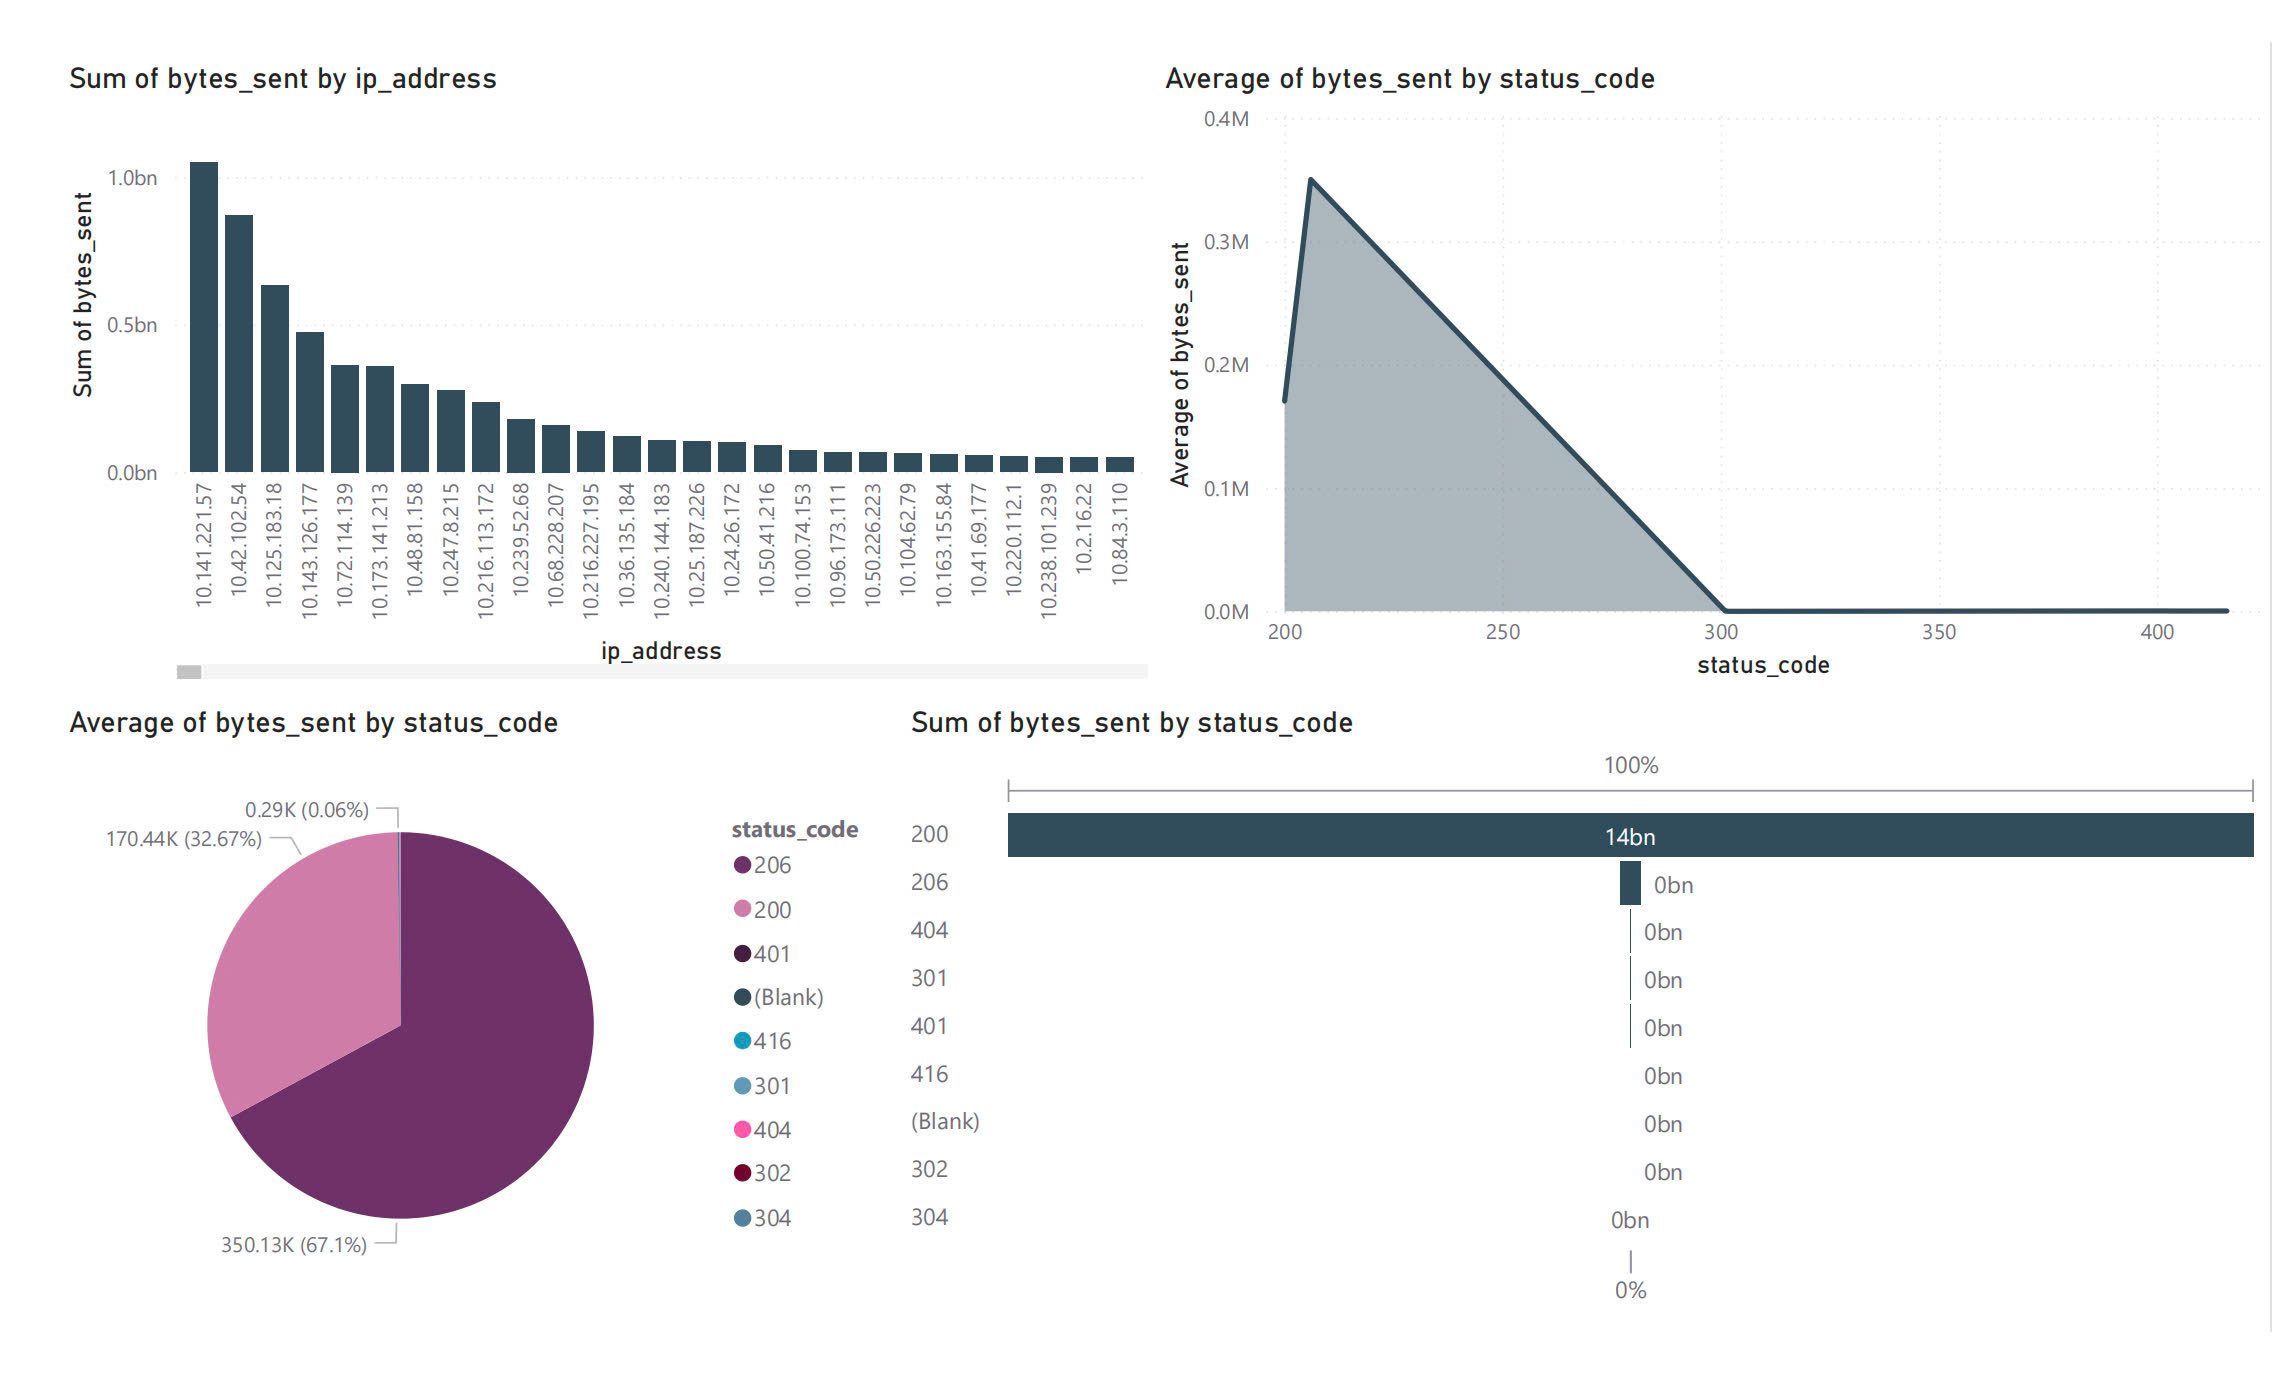

This screenshot's page, from the dashboard's own definition file:
{"tool":"powerbi","page":{"name":"Log","canvas":[1280,720],"ordinal":1},"visuals":[{"type":"columnChart","fields":{"Y":["Sum(logs.bytes_sent)"],"Category":["logs.ip_address"]},"box":[10.4,0,629.6,359.5],"z":0},{"type":"pieChart","fields":{"Category":["logs.status_code"],"Y":["Avg(logs.bytes_sent)"]},"box":[10,370,483,350],"z":1},{"type":"areaChart","fields":{"Category":["logs.status_code"],"Y":["Avg(logs.bytes_sent)"]},"box":[640,0,640,359.5],"z":2},{"type":"funnel","fields":{"Y":["Sum(logs.bytes_sent)"],"Category":["logs.status_code"]},"box":[493.8,370,786.2,350.6],"z":3}]}

Visuals, with their boxes on the page's 1280x720 design canvas (x1, y1, x2, y2). These are canvas units, not pixel positions in the 2272x1374 screenshot, which may show the page scaled, cropped or inside an application window:
columnChart - Sum(logs.bytes_sent) x logs.ip_address: rect(10, 0, 640, 360)
pieChart - logs.status_code x Avg(logs.bytes_sent): rect(10, 370, 493, 720)
areaChart - logs.status_code x Avg(logs.bytes_sent): rect(640, 0, 1280, 360)
funnel - Sum(logs.bytes_sent) x logs.status_code: rect(494, 370, 1280, 721)
